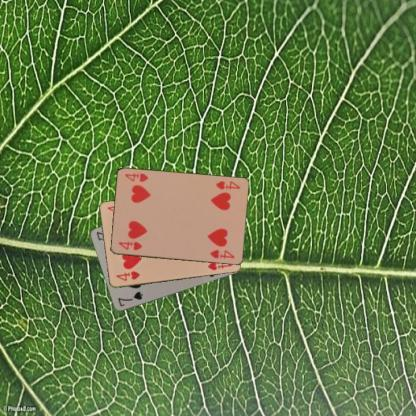4h: (113, 268, 141, 283), (213, 179, 240, 191), (116, 240, 144, 251)
7s: (115, 289, 144, 308)
